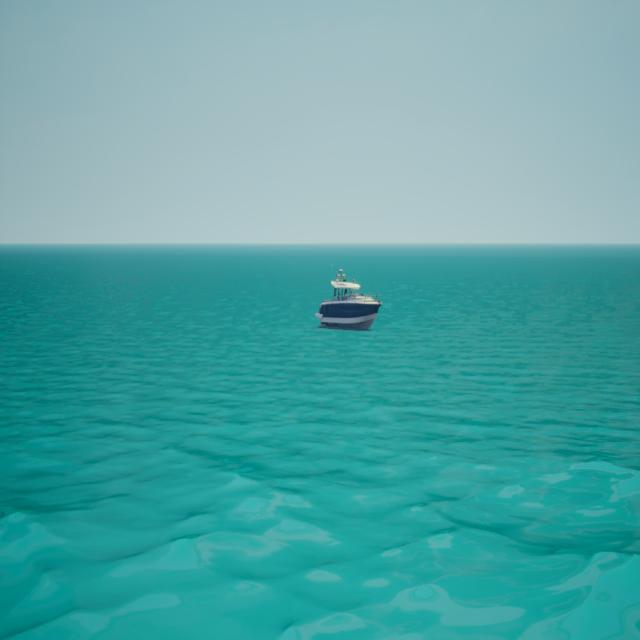ship: (316, 266, 383, 329)
